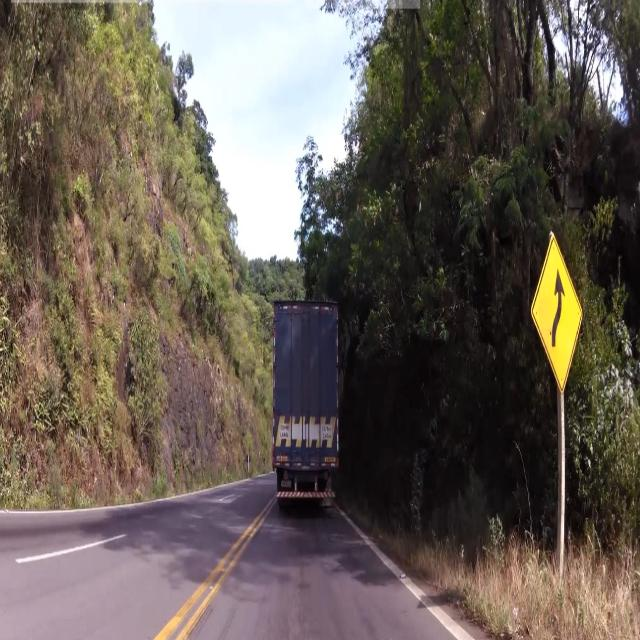A-5b: (533, 234, 588, 393)
